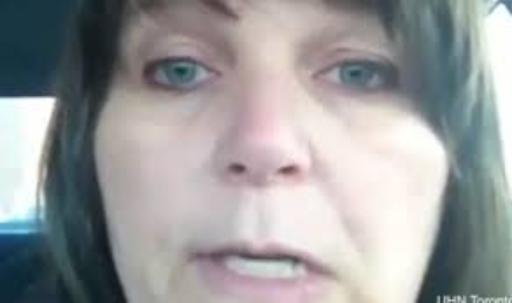left_eye: (310, 62, 398, 92)
left_lip_corner: (308, 257, 346, 292)
right_eye: (141, 61, 225, 88)
right_lip_corner: (189, 246, 221, 270)
